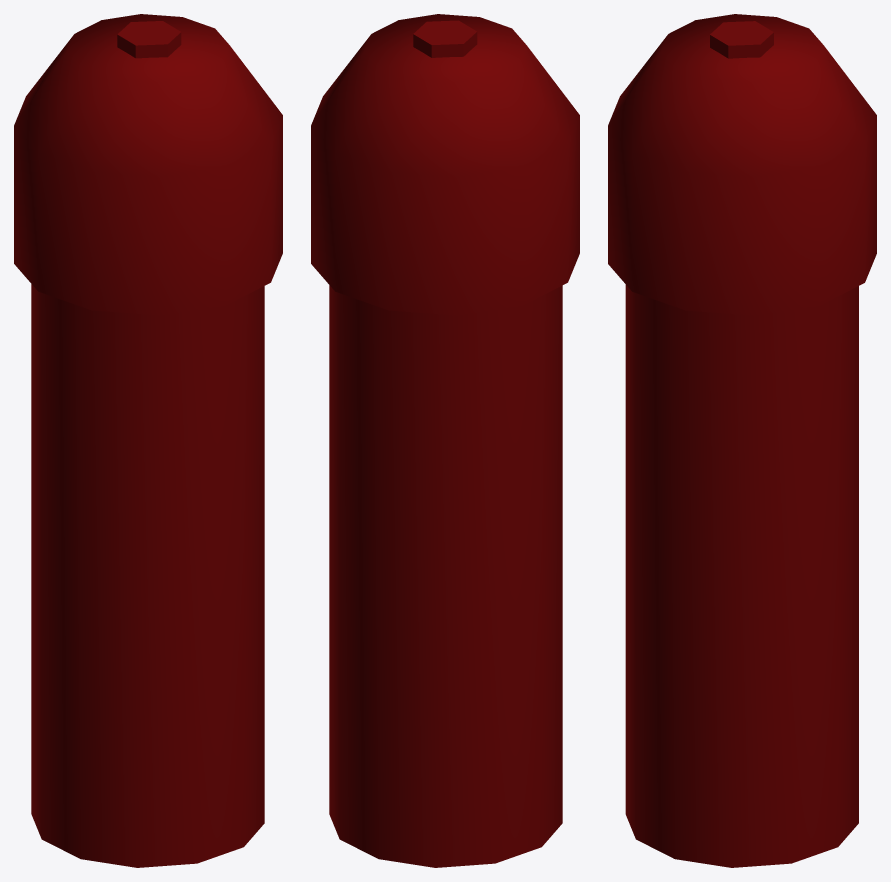
File: Filter_Housing_fixed.fbx
The picture shows the model from 3 angles, left to right: view 1: azimuth 30°, elevation 25°; view 2: azimuth 150°, elevation 25°; view 3: azimuth 270°, elevation 25°; orthographic projection.
Visible parts, largest first — view 1: FIlterHousing_Body, FilterHousing_Cap; view 2: FIlterHousing_Body, FilterHousing_Cap; view 3: FIlterHousing_Body, FilterHousing_Cap.
Boxes of the visible parts, box(x1,y1,x2,y2) form: FIlterHousing_Body: box(31, 284, 264, 867); FilterHousing_Cap: box(14, 14, 282, 315); FIlterHousing_Body: box(329, 285, 562, 867); FilterHousing_Cap: box(311, 14, 579, 315); FIlterHousing_Body: box(625, 284, 858, 867); FilterHousing_Cap: box(608, 14, 876, 315).
Size of the model in its own units: 0.152 by 0.4902 by 0.152.
